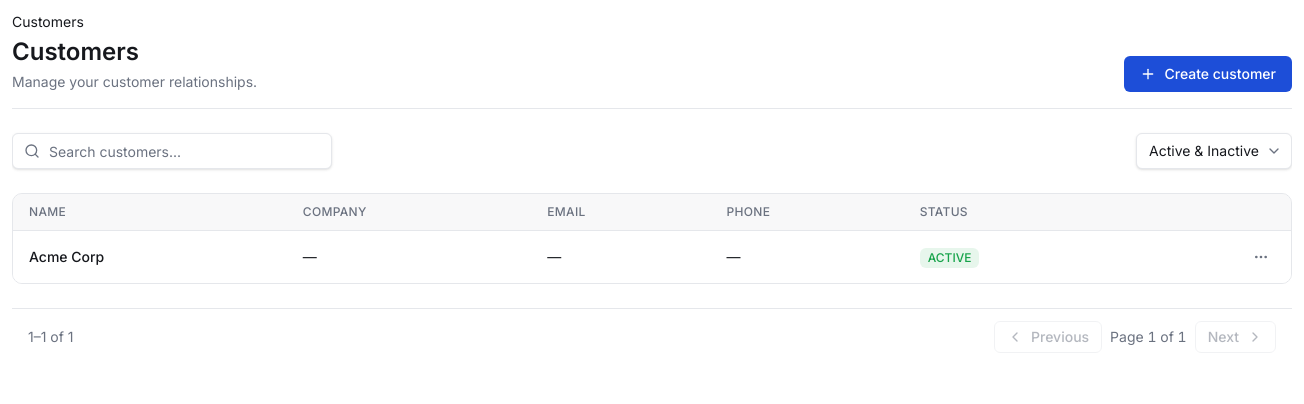
Test: CustomersListPage RBAC visibility › OWNER sees Create customer, Edit, and Archive
Check: the link "Acme Corp" is shown, box [29,248,104,265]
Check: the button "Create customer" is shown, box [1124,56,1292,92]
Click the button named "Actions for Acme Corp".
click(1261, 257)  # box [1247,243,1275,271]
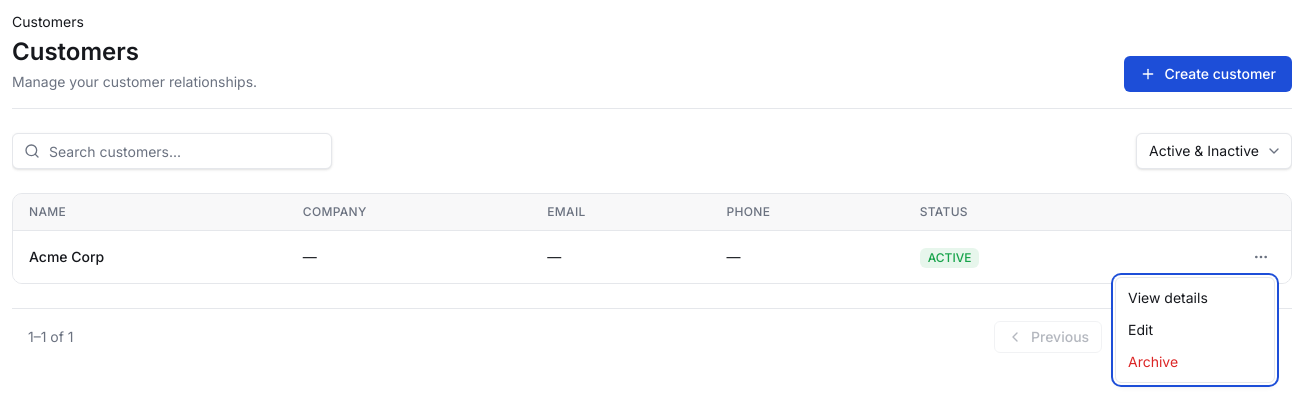
Check: the menu item "Edit" is shown, box [1128,321,1153,338]
Check: the menu item "Archive" is shown, box [1128,353,1178,370]
